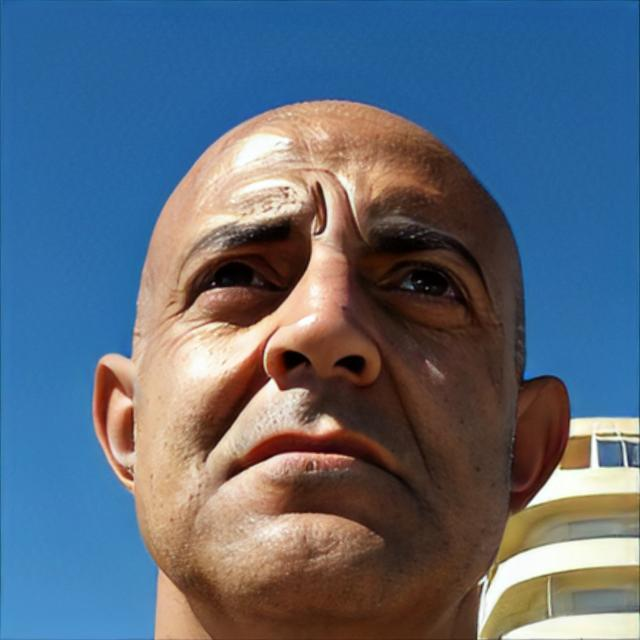anger: (137, 133, 515, 623)
